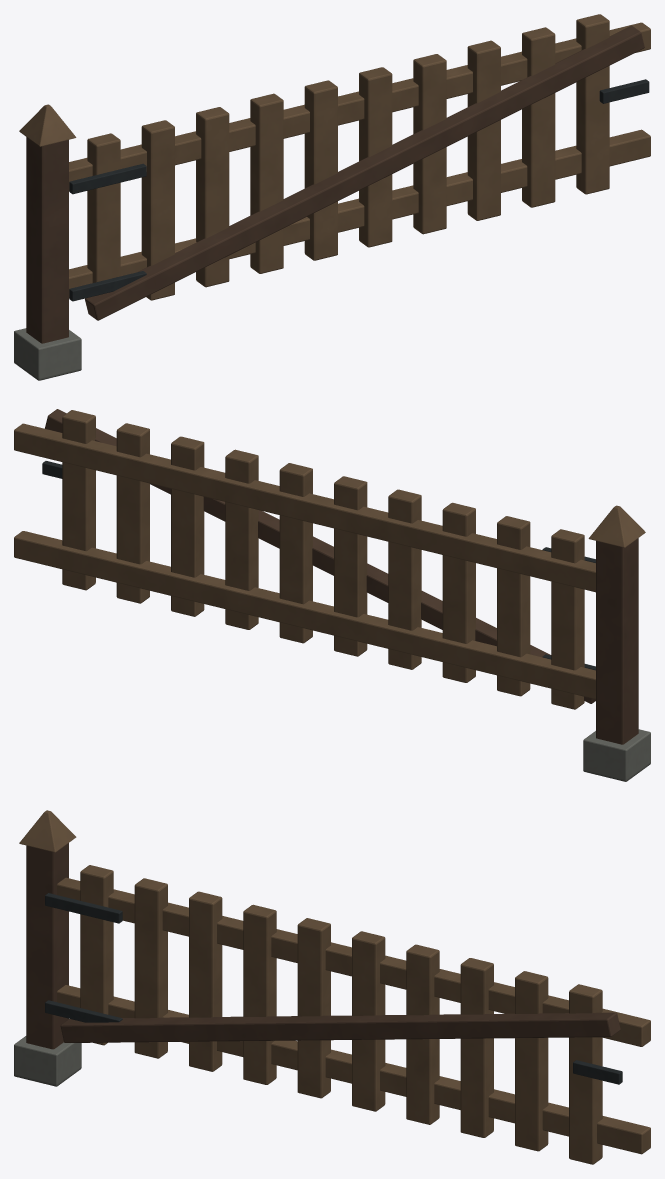
The model's file is Fence_Gate.fbx.
3 renders of one model, top to bottom at view 1: azimuth 30°, elevation 25°; view 2: azimuth 150°, elevation 25°; view 3: azimuth 330°, elevation 25°, orthographic.
Parts seen in each view (by area): view 1: Fence_Gate.001; view 2: Fence_Gate.001; view 3: Fence_Gate.001.
Boxes of the visible parts, <box> form: Fence_Gate.001: <box>14,14,650,380</box>; Fence_Gate.001: <box>14,409,650,781</box>; Fence_Gate.001: <box>14,810,650,1164</box>.
Size of the model in its own units: 4 by 1.61 by 0.33.
